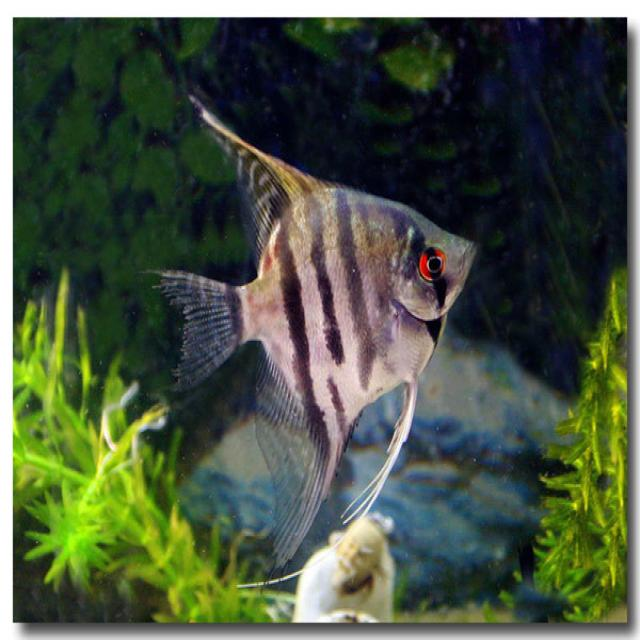AngelFish: (159, 96, 476, 546)
